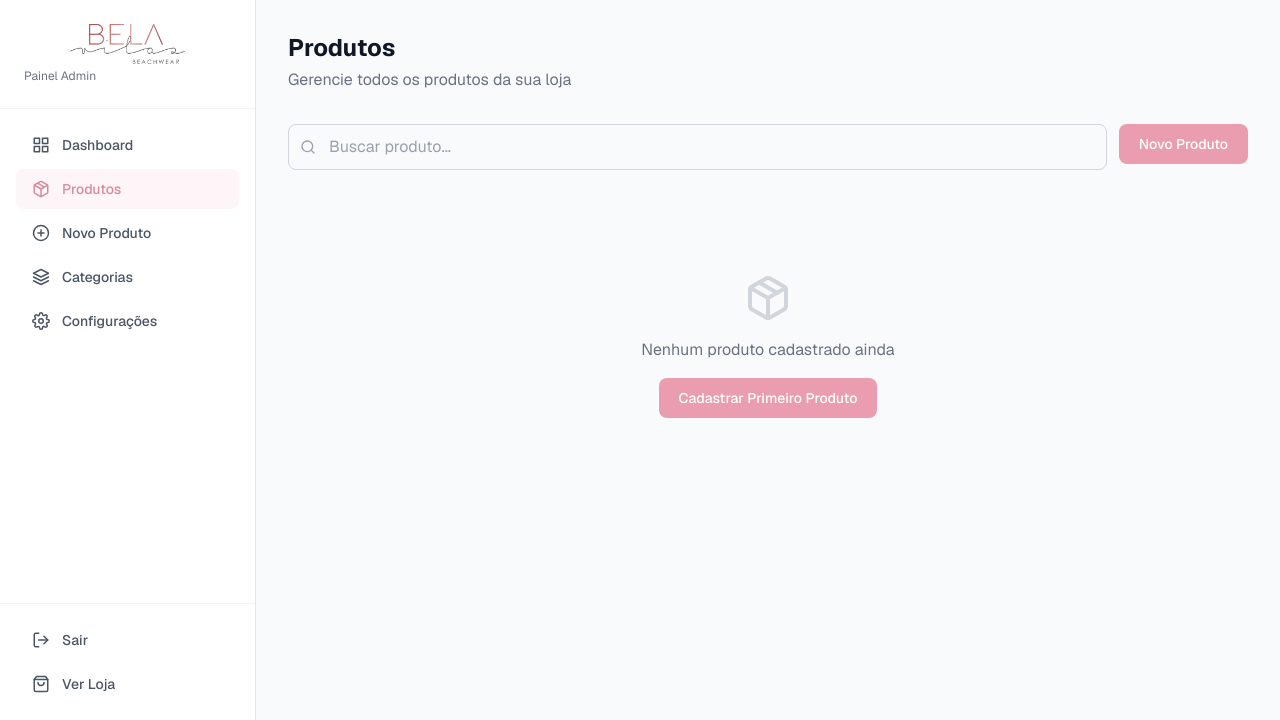
Test: Admin - Produtos CRUD › deve navegar para o formulário de novo produto
The image size is (1280, 720).
Click the link "Novo Produto" below "Dashboard": (92, 233) [32,224,151,242]
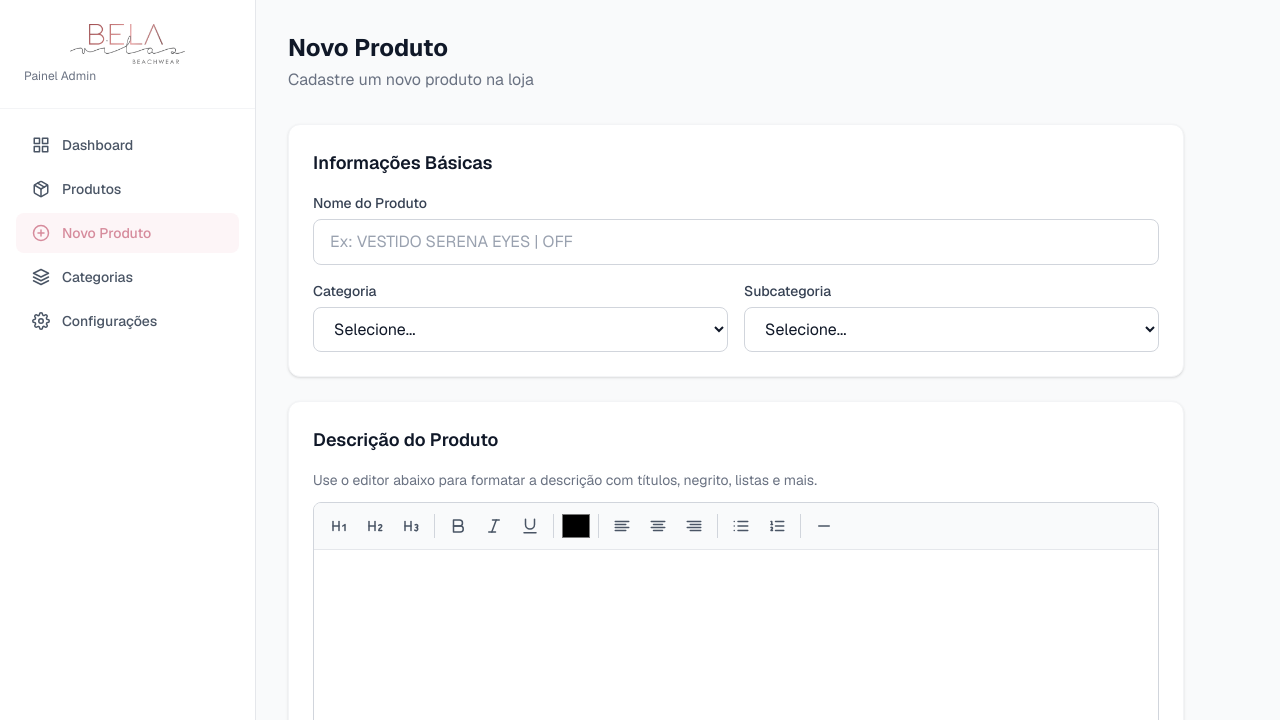
Check: the text "Cadastre um novo produto na loja" is shown, box [288,69,534,90]
